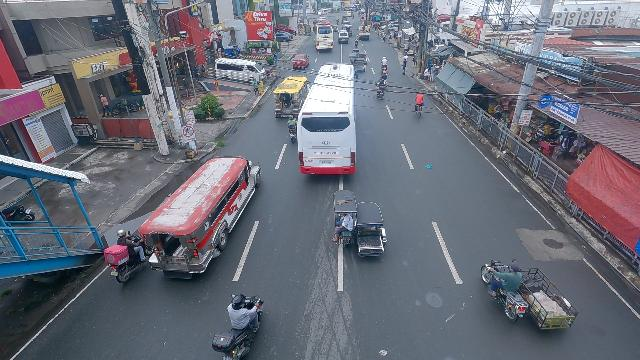bus: (297, 63, 360, 175), (313, 22, 333, 52)
car: (292, 53, 309, 69), (275, 31, 293, 42)
jeepney: (138, 154, 263, 281), (273, 74, 309, 122), (342, 25, 353, 36)
motorcycle: (210, 291, 265, 360), (104, 231, 149, 284), (288, 114, 298, 144), (376, 79, 385, 100), (380, 71, 388, 90), (380, 56, 388, 73), (354, 38, 359, 47), (336, 18, 339, 26)
truck: (358, 26, 370, 41)
van: (214, 58, 267, 85), (338, 30, 350, 44)
